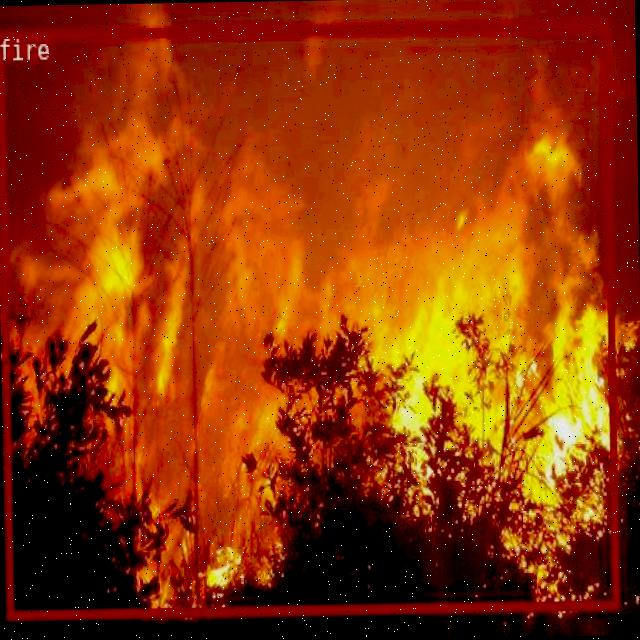fire: (0, 18, 617, 618)
